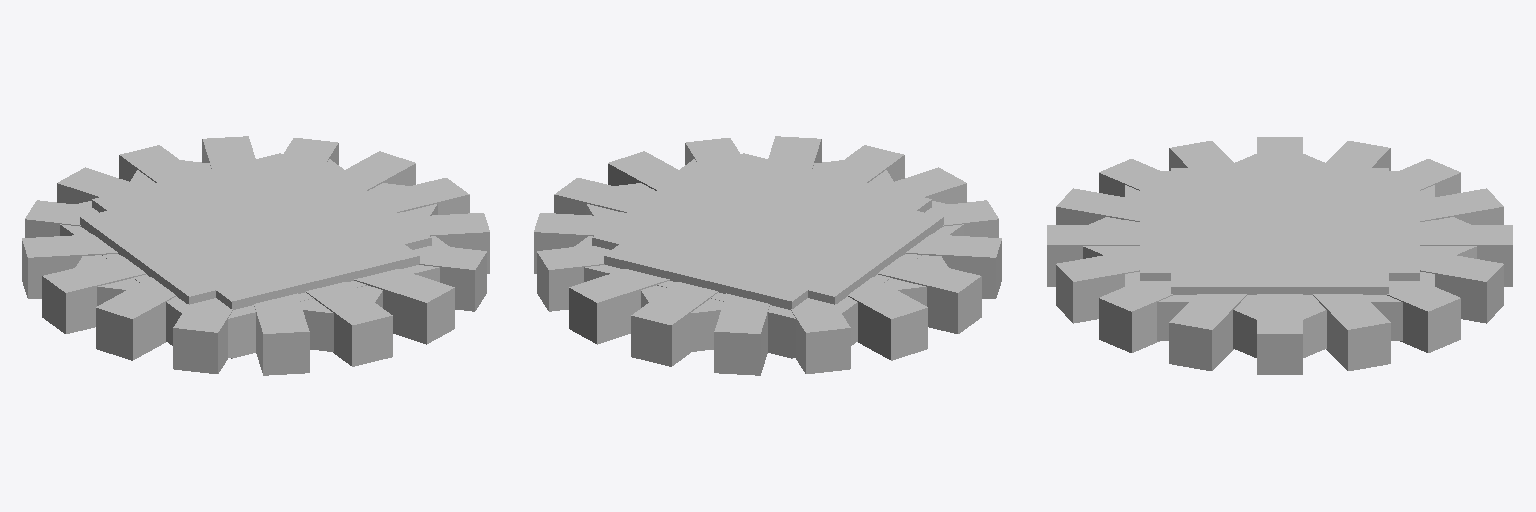
Rendered from large_cogwheel_shaftless.obj.
3 views of the same model, side by side, from view 1: azimuth 30°, elevation 25°; view 2: azimuth 150°, elevation 25°; view 3: azimuth 270°, elevation 25° (orthographic).
Visible parts, largest first — view 1: GearCaseOuter, Gear7, Gear2, Gear4, Gear8, Gear3, Gear, Gear5, Gear6, GearCaseInnerRotated, GearCaseInner; view 2: GearCaseOuter, Gear7, Gear3, Gear, Gear8, Gear2, Gear4, Gear6, Gear5, GearCaseInnerRotated, GearCaseInner; view 3: GearCaseOuter, Gear4, Gear, Gear2, Gear3, Gear8, Gear5, Gear6, Gear7, GearCaseInnerRotated, GearCaseInner.
Part boxes in pixels (x1,y1,x2,y2): GearCaseOuter: (80, 153, 431, 358); Gear7: (42, 178, 469, 333); Gear2: (96, 151, 415, 360); Gear4: (57, 167, 454, 344); Gear8: (119, 145, 392, 366); Gear3: (22, 213, 489, 298); Gear: (202, 136, 309, 375); Gear5: (173, 138, 338, 373); Gear6: (25, 200, 486, 311); GearCaseInnerRotated: (75, 160, 437, 351); GearCaseInner: (60, 154, 449, 357); GearCaseOuter: (592, 153, 943, 358); Gear7: (554, 178, 981, 333); Gear3: (608, 151, 927, 360); Gear: (569, 167, 966, 344); Gear8: (631, 145, 904, 366); Gear2: (534, 213, 1001, 298); Gear4: (714, 136, 821, 375); Gear6: (685, 138, 850, 373); Gear5: (537, 200, 998, 311); GearCaseInnerRotated: (586, 160, 948, 351); GearCaseInner: (574, 154, 963, 357); GearCaseOuter: (1140, 168, 1419, 294); Gear4: (1056, 188, 1503, 323); Gear: (1056, 188, 1503, 323); Gear2: (1169, 141, 1390, 370); Gear3: (1169, 141, 1390, 370); Gear8: (1047, 225, 1512, 286); Gear5: (1099, 159, 1460, 352); Gear6: (1099, 159, 1460, 352); Gear7: (1257, 137, 1302, 374); GearCaseInnerRotated: (1083, 154, 1476, 357); GearCaseInner: (1125, 171, 1434, 340).
Bounding box in the file's own units: 1.88 × 0.2531 × 1.88.